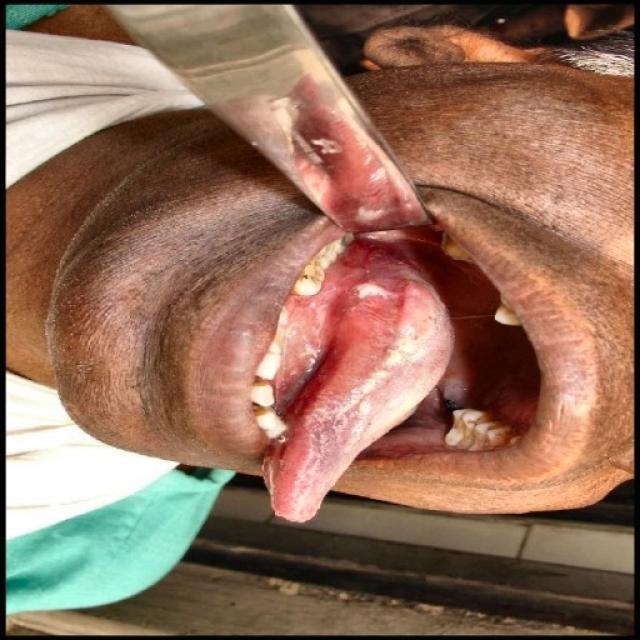cancer-detection: (281, 299, 332, 413), (356, 278, 408, 303)
processing_area: (270, 225, 537, 518)
